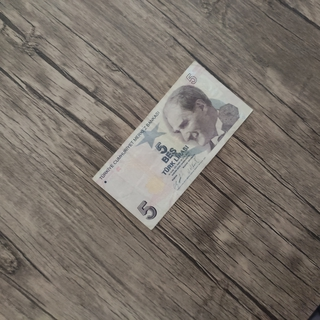5TLFront: (90, 59, 254, 231)
